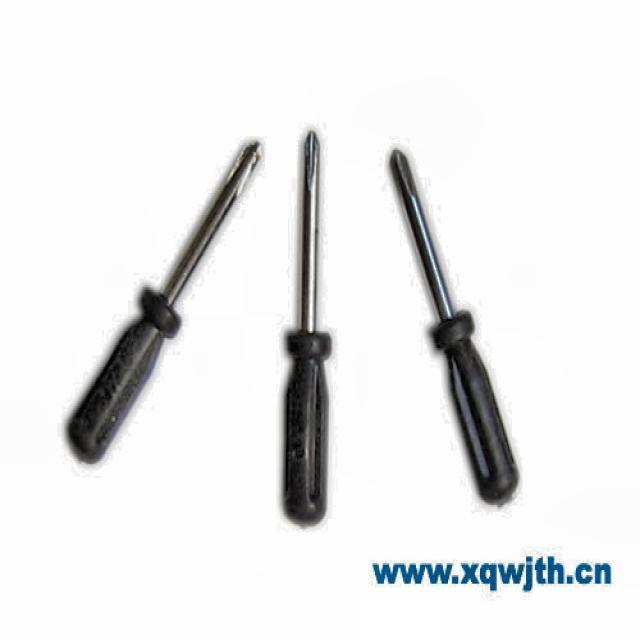screwdriver: (64, 138, 264, 466), (387, 148, 521, 510), (281, 129, 331, 527)
